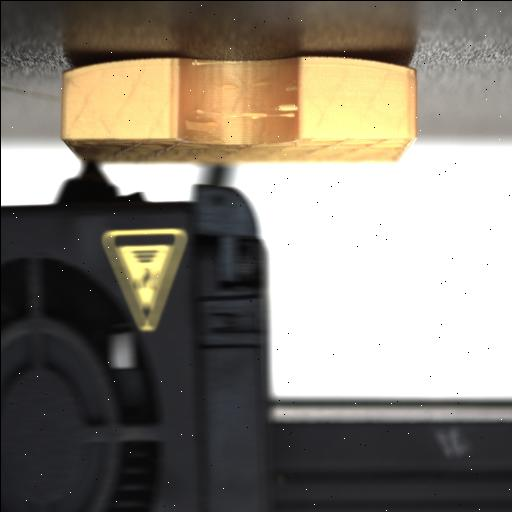warp: (56, 50, 180, 80)
